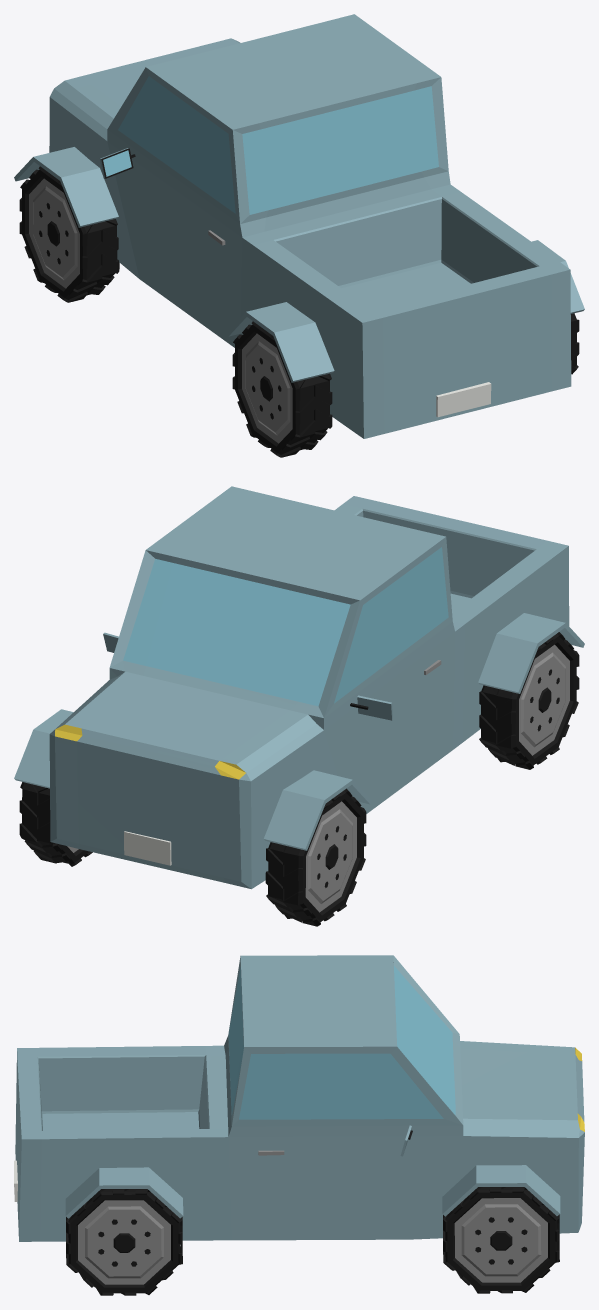
File: car.fbx
The picture shows the model from 3 angles, top to bottom: view 1: azimuth 30°, elevation 25°; view 2: azimuth 150°, elevation 25°; view 3: azimuth 270°, elevation 25°; orthographic projection. The views are drawn at different scales.
Parts seen in each view (by area): view 1: Blue_Car; view 2: Blue_Car; view 3: Blue_Car.
Boxes of the visible parts, x1,y1,x2,y2 form: Blue_Car: [14, 14, 584, 457]; Blue_Car: [14, 486, 584, 926]; Blue_Car: [14, 955, 584, 1295].
Bounding box in the file's own units: 497 × 425 × 943.
